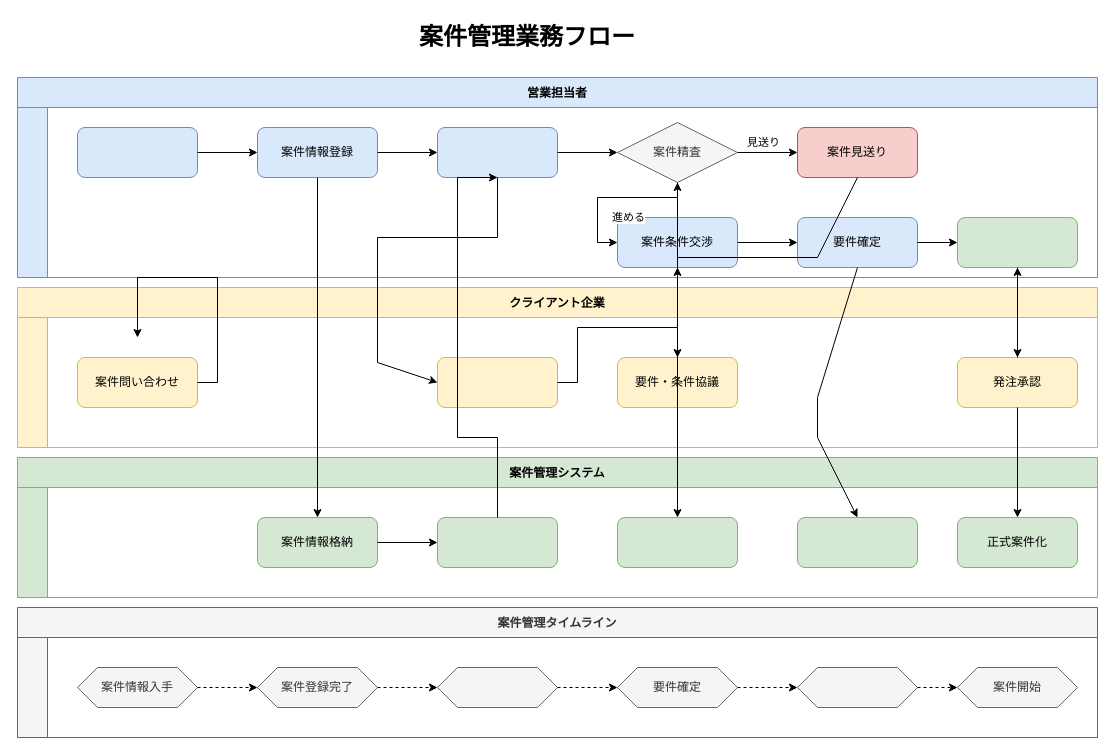
This 1115x755 diagram has some shape labels left out. The shapes that lost their labels are listed below. From the top down, each one's centre as x and y in pixels, then its label:
At point 137,152: "案件情報獲得".
At point 497,152: "案件分類・優先度付け".
At point 1017,242: "案件受注".
At point 497,382: "詳細情報提供".
At point 497,542: "関係者通知".
At point 677,542: "案件ステータス更新".
At point 857,542: "関連文書登録".
At point 497,687: "営業判断".
At point 857,687: "契約準備".
